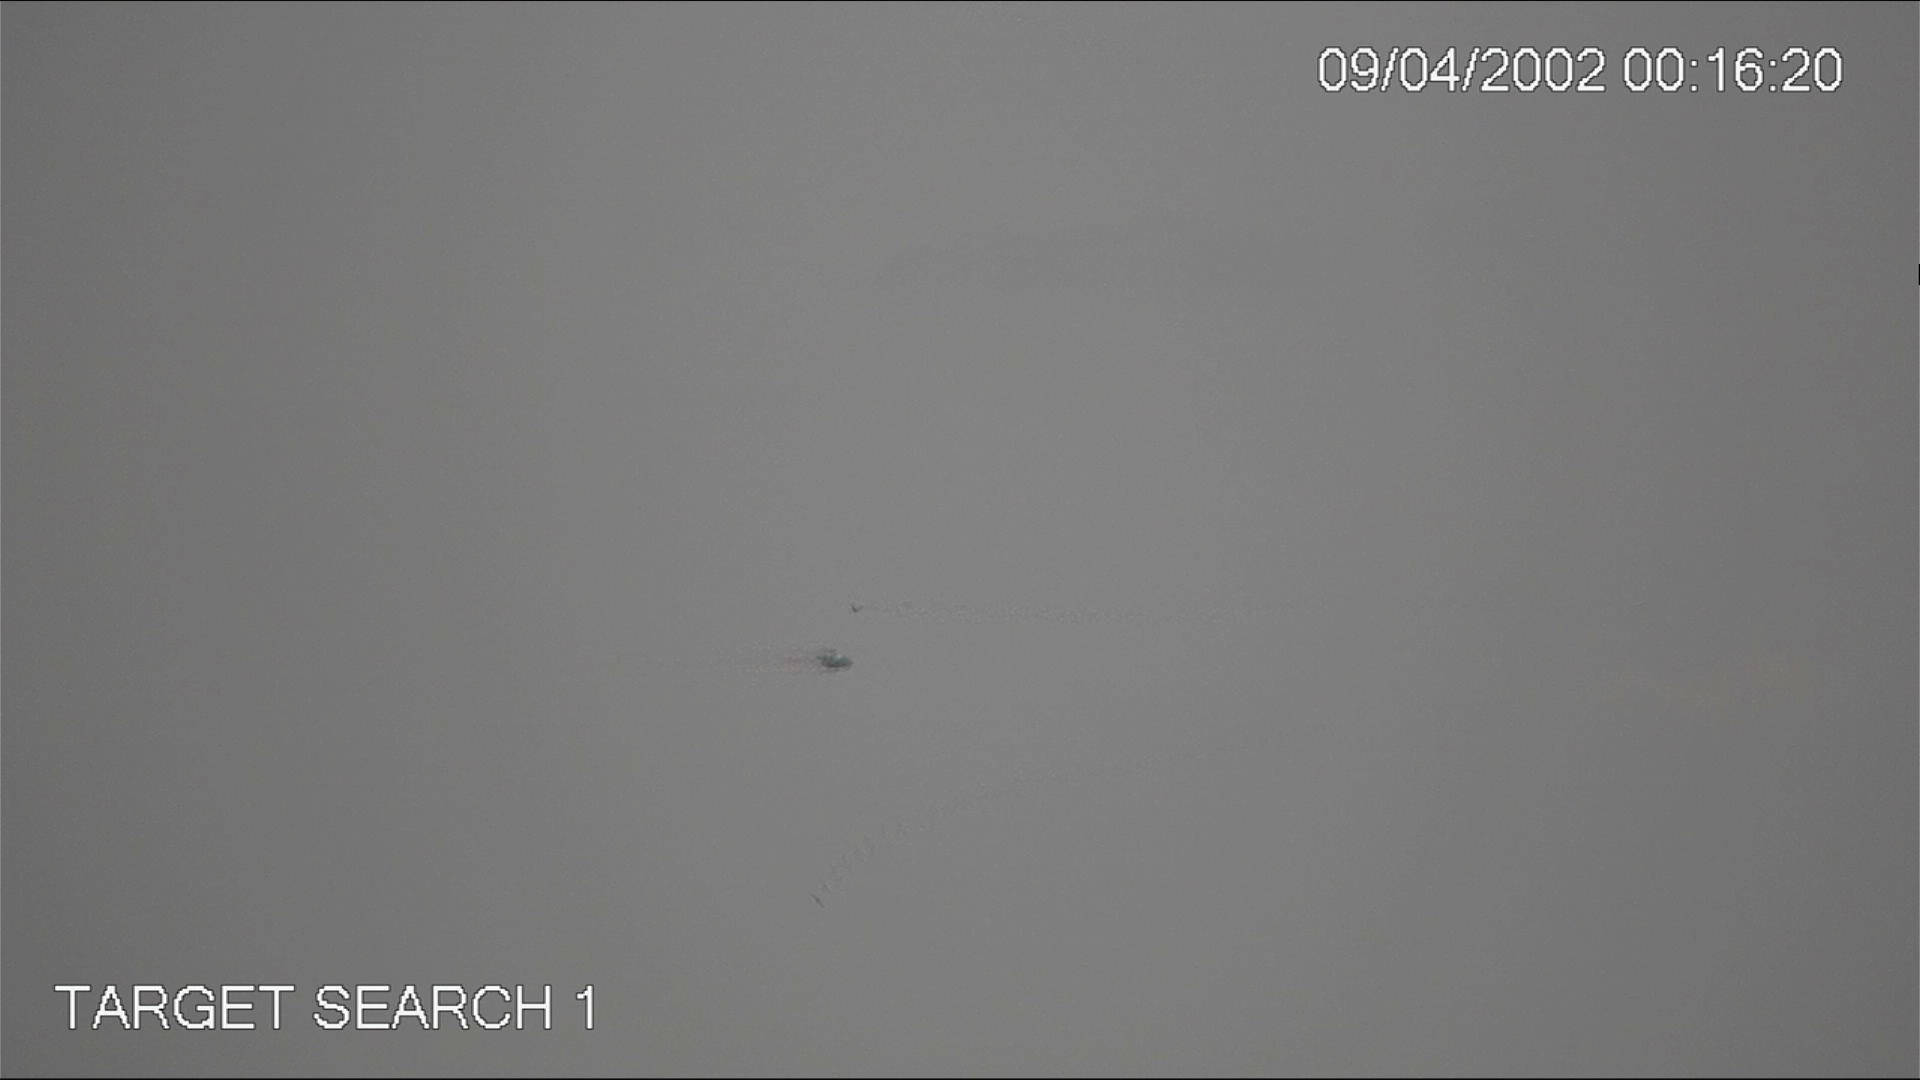SU_30: (822, 651, 855, 670)
